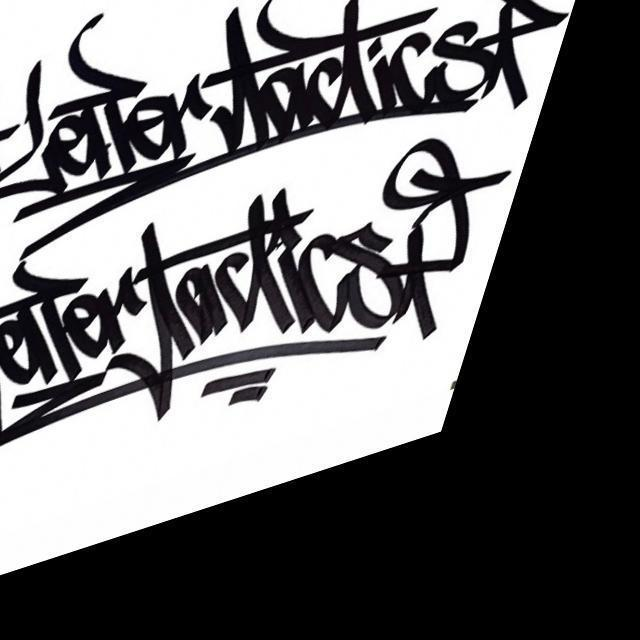nonspitting: (0, 0, 565, 446)
